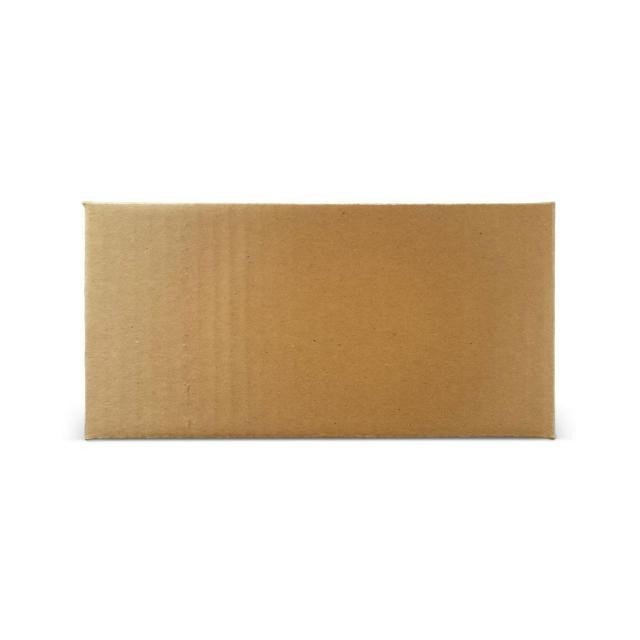box: (81, 201, 556, 442)
